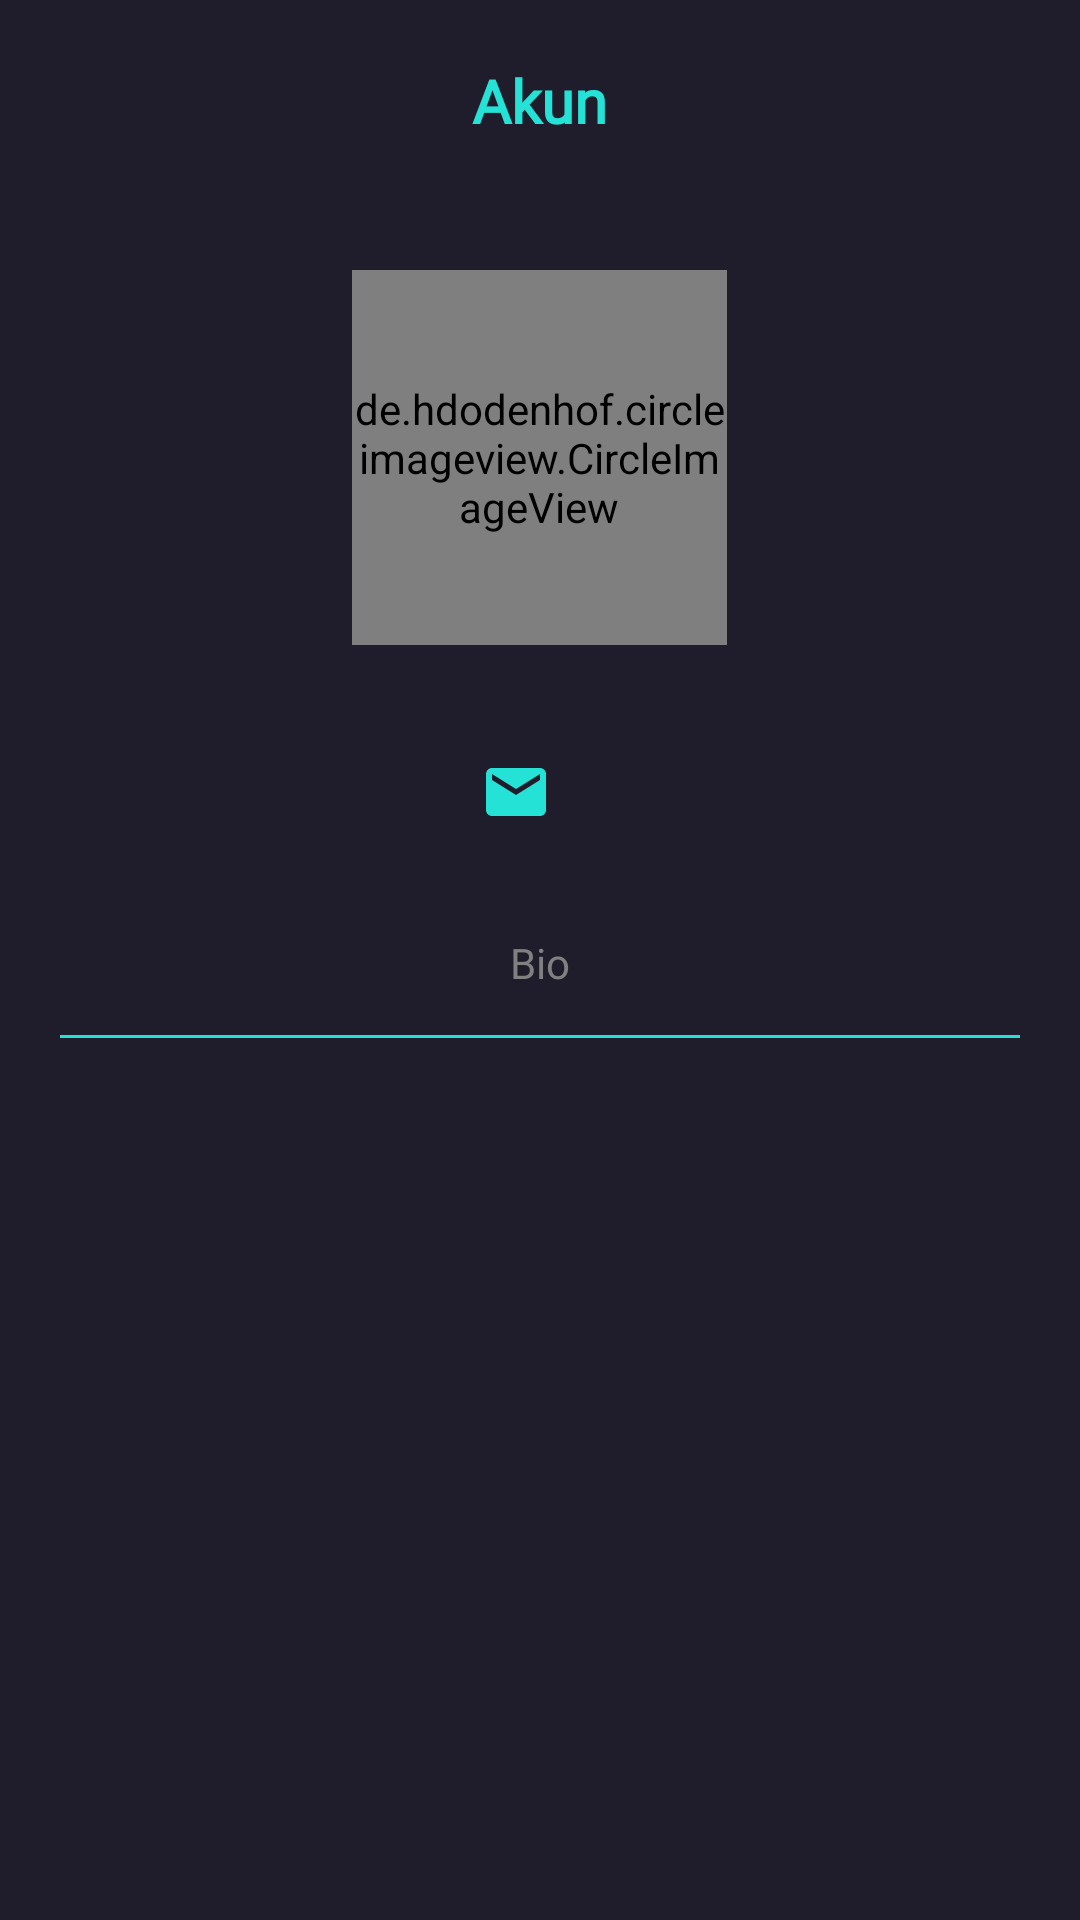

Icon bounding boxes for this 1080*1920 phone screenshot, format bbox=[x1, y1, x2, y2]:
email: bbox=[486, 768, 546, 816]
